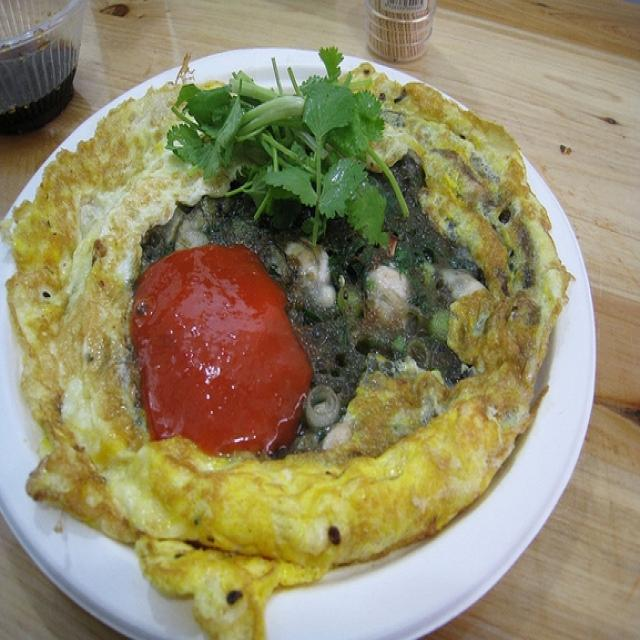熟制海鲜: (6, 5, 616, 628)
